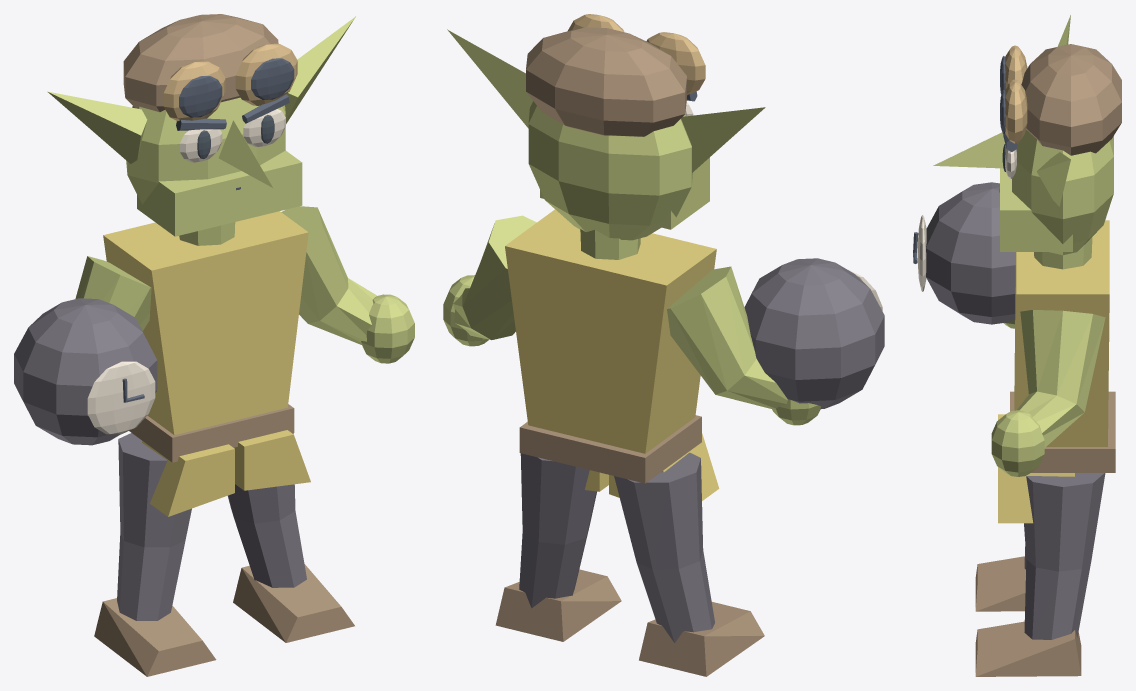
File: bomb-lobber.glb
3 renders of one model, left to right at view 1: azimuth 30°, elevation 25°; view 2: azimuth 150°, elevation 25°; view 3: azimuth 270°, elevation 25°, orthographic. The views are drawn at different scales.
Visible parts, largest first — view 1: torso, clockwork_bomb, leg_-1, leather_cap, jaw, arm_1, head, leg_1, foot_-1, foot_1, tunic_hem_-1, belt (+14 smaller); view 2: torso, clockwork_bomb, head, leather_cap, leg_-1, arm_-1, leg_1, belt, foot_-1, foot_1, arm_1, ear_-1 (+7 smaller); view 3: leg_1, clockwork_bomb, torso, leather_cap, arm_1, head, foot_1, hand_1, jaw, foot_-1, belt, tunic_hem_1 (+6 smaller).
Boxes of the visible parts, x1,y1,x2,y2 form: torso: (103,211,308,434); clockwork_bomb: (14,298,157,445); leg_-1: (117,433,191,620); leather_cap: (123,14,278,112); jaw: (137,150,302,236); arm_1: (281,206,377,344); head: (126,97,285,204); leg_1: (228,433,306,587); foot_-1: (94,598,216,676); foot_1: (233,564,354,642); tunic_hem_-1: (142,441,234,516); belt: (129,404,294,462); torso: (505,209,716,453); clockwork_bomb: (744,258,884,409); head: (528,101,692,240); leather_cap: (526,27,686,136); leg_-1: (614,452,714,642); arm_-1: (667,266,787,409); leg_1: (519,453,596,608); belt: (519,415,701,483); foot_-1: (639,602,764,676); foot_1: (495,569,621,641); arm_1: (453,215,536,340); ear_-1: (681,107,765,172); leg_1: (1024,473,1105,639); clockwork_bomb: (926,182,1015,324); torso: (1014,220,1109,446); leather_cap: (1021,44,1121,155); arm_1: (1017,310,1105,447); head: (1012,130,1113,255); foot_1: (975,621,1081,676); hand_1: (991,410,1044,476); jaw: (1000,168,1072,251); foot_-1: (975,556,1025,611); belt: (1010,391,1115,472); tunic_hem_1: (998,467,1074,523).
Bounding box in the file's own units: 0.7428 × 1.05 × 0.3474.
